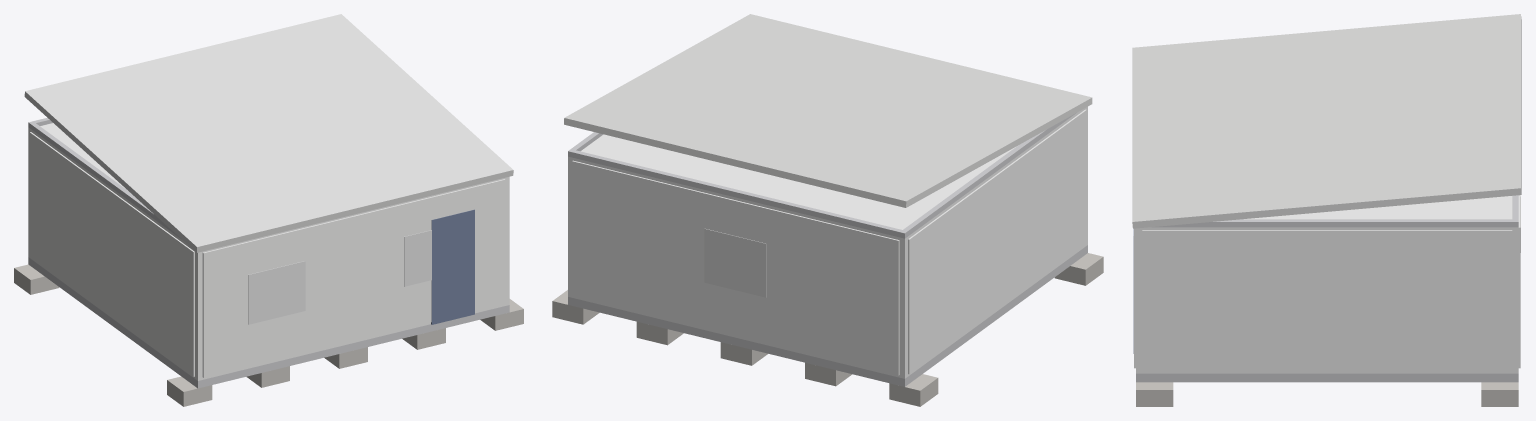
The model's file is Studio-20-SlopingRoof-LOD2.glb.
3 views of the same model, side by side, from view 1: azimuth 30°, elevation 25°; view 2: azimuth 150°, elevation 25°; view 3: azimuth 270°, elevation 25° (orthographic). The views are drawn at different scales.
Visible parts, largest first — view 1: RoofSlopingUpgrade, ExteriorPanelsStandard, EntryDoor, WindowsStandard, FoundationBlocks, ExteriorShell, BaseFrame, TopFrame, InteriorCeiling; view 2: ExteriorPanelsStandard, RoofSlopingUpgrade, InteriorCeiling, ExteriorShell, FoundationBlocks, TopFrame, BaseFrame, WindowsStandard; view 3: RoofSlopingUpgrade, ExteriorPanelsStandard, ExteriorShell, BaseFrame, InteriorCeiling, TopFrame, FoundationBlocks.
Boxes of the visible parts, box(x1,y1,x2,y2) form: RoofSlopingUpgrade: box(24, 14, 513, 252); ExteriorPanelsStandard: box(29, 132, 505, 377); EntryDoor: box(431, 209, 474, 324); WindowsStandard: box(248, 230, 431, 324); FoundationBlocks: box(14, 264, 523, 406); ExteriorShell: box(28, 127, 509, 380); BaseFrame: box(28, 257, 509, 388); TopFrame: box(28, 117, 181, 239); InteriorCeiling: box(40, 123, 127, 190); ExteriorPanelsStandard: box(572, 109, 1086, 375); RoofSlopingUpgrade: box(564, 14, 1092, 207); InteriorCeiling: box(581, 134, 1016, 229); ExteriorShell: box(568, 106, 1087, 378); FoundationBlocks: box(552, 253, 1103, 406); TopFrame: box(568, 113, 1075, 238); BaseFrame: box(568, 245, 1087, 386); WindowsStandard: box(704, 228, 766, 297); RoofSlopingUpgrade: box(1132, 14, 1521, 228); ExteriorPanelsStandard: box(1134, 195, 1520, 371); ExteriorShell: box(1136, 227, 1518, 373); BaseFrame: box(1136, 373, 1518, 382); InteriorCeiling: box(1244, 196, 1512, 219); TopFrame: box(1152, 195, 1518, 227); FoundationBlocks: box(1136, 382, 1518, 406).
Size of the model in its own units: 7.14 by 3.77 by 6.27.
